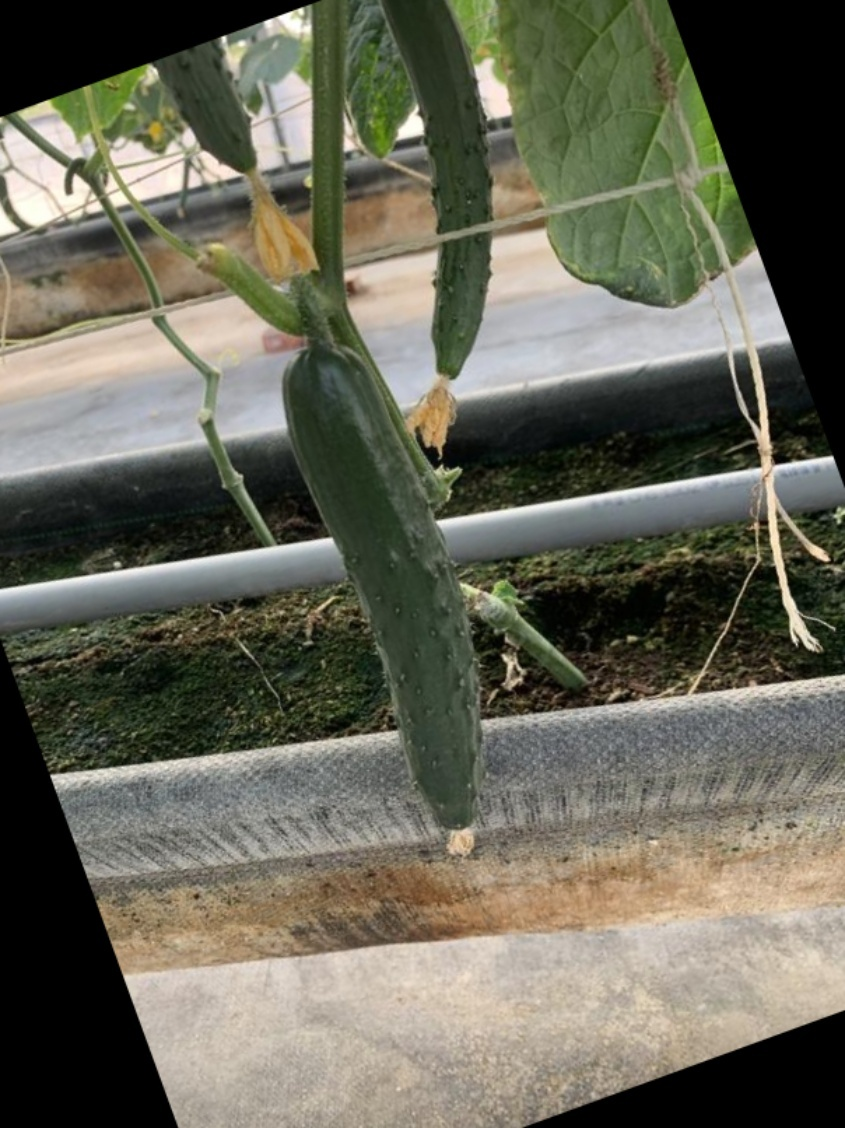mature: (275, 340, 493, 836)
